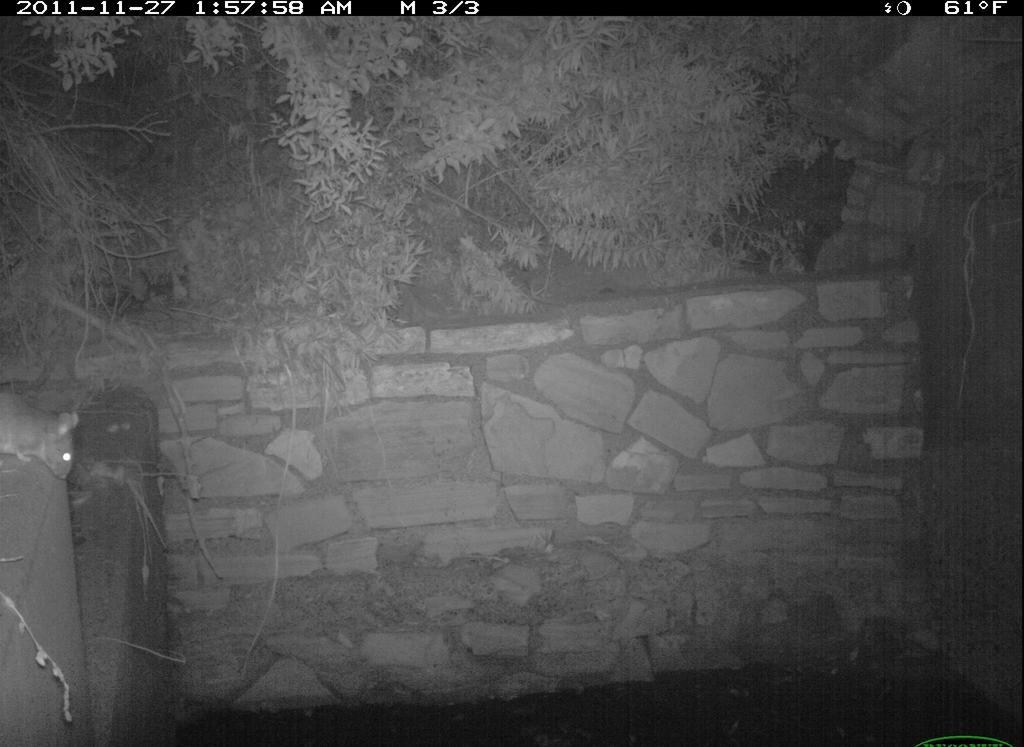rodent: (1, 387, 86, 490)
